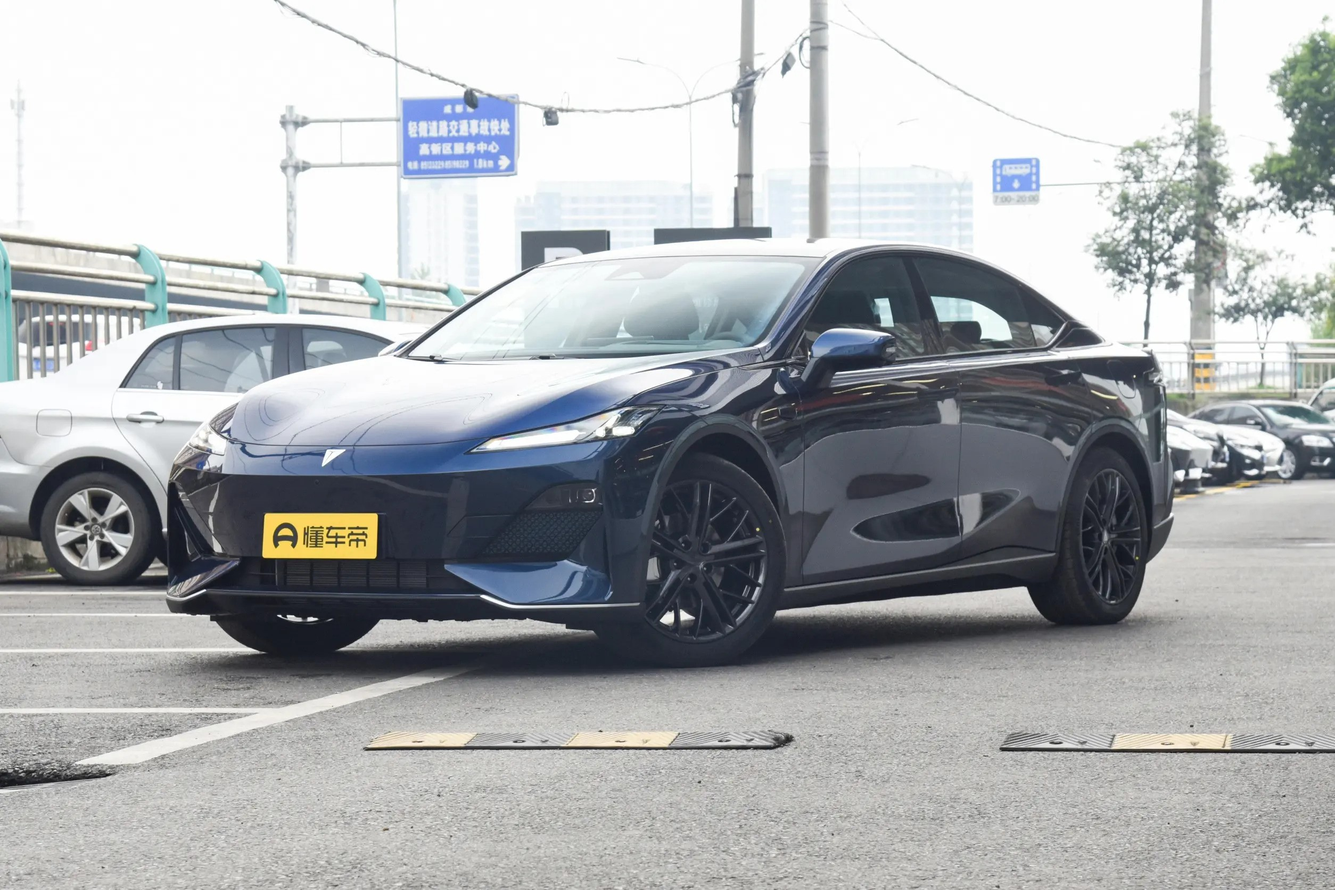Deepal: (322, 449, 345, 466)
